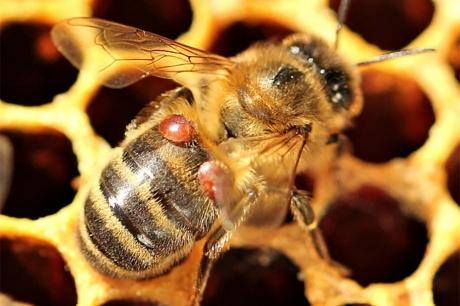worker-bee: (51, 17, 362, 304)
